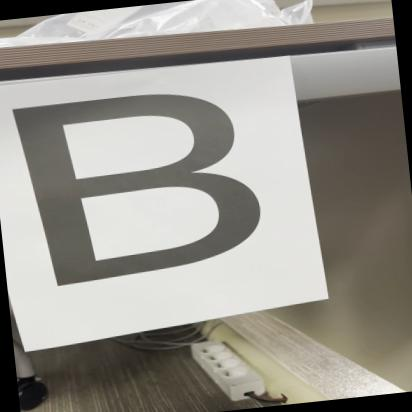seat: (5, 73, 267, 298)
